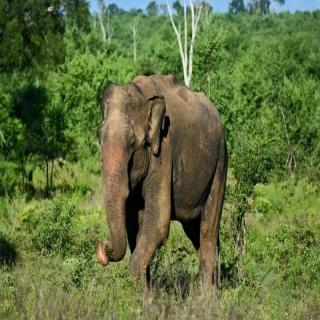Elephant: (92, 72, 230, 304)
